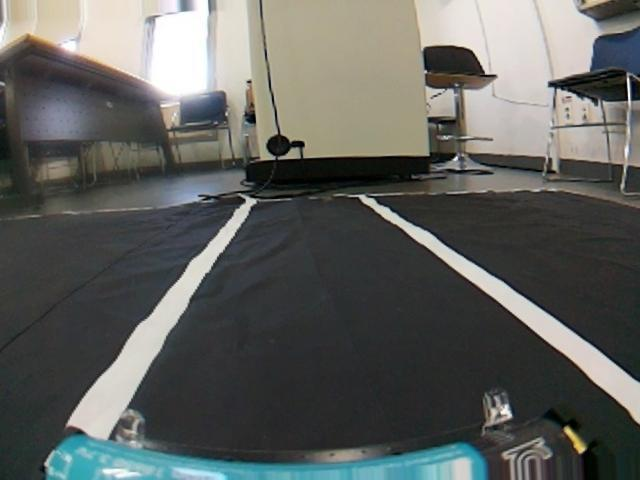straight: (3, 219, 640, 480)
